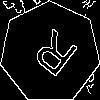R: (24, 27, 80, 86)
